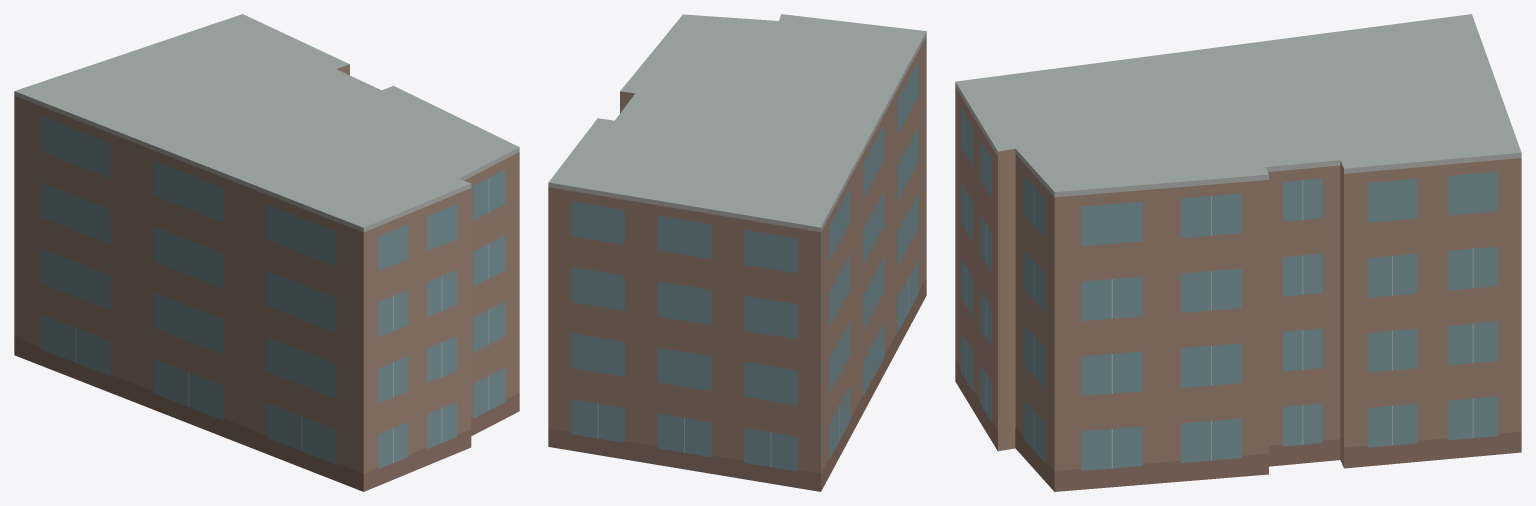
Rendered from survey-upis-32835851.glb.
3 renders of one model, left to right at view 1: azimuth 30°, elevation 25°; view 2: azimuth 150°, elevation 25°; view 3: azimuth 270°, elevation 25°, orthographic. The views are drawn at different scales.
Visible parts, largest first — view 1: survey-upis-32835851.tmp; view 2: survey-upis-32835851.tmp; view 3: survey-upis-32835851.tmp.
Boxes of the visible parts, x1,y1,x2,y2 form: survey-upis-32835851.tmp: (14,14,519,491); survey-upis-32835851.tmp: (548,14,926,491); survey-upis-32835851.tmp: (955,14,1521,491).
Bounding box in the file's own units: 17.86 × 14 × 23.98.
